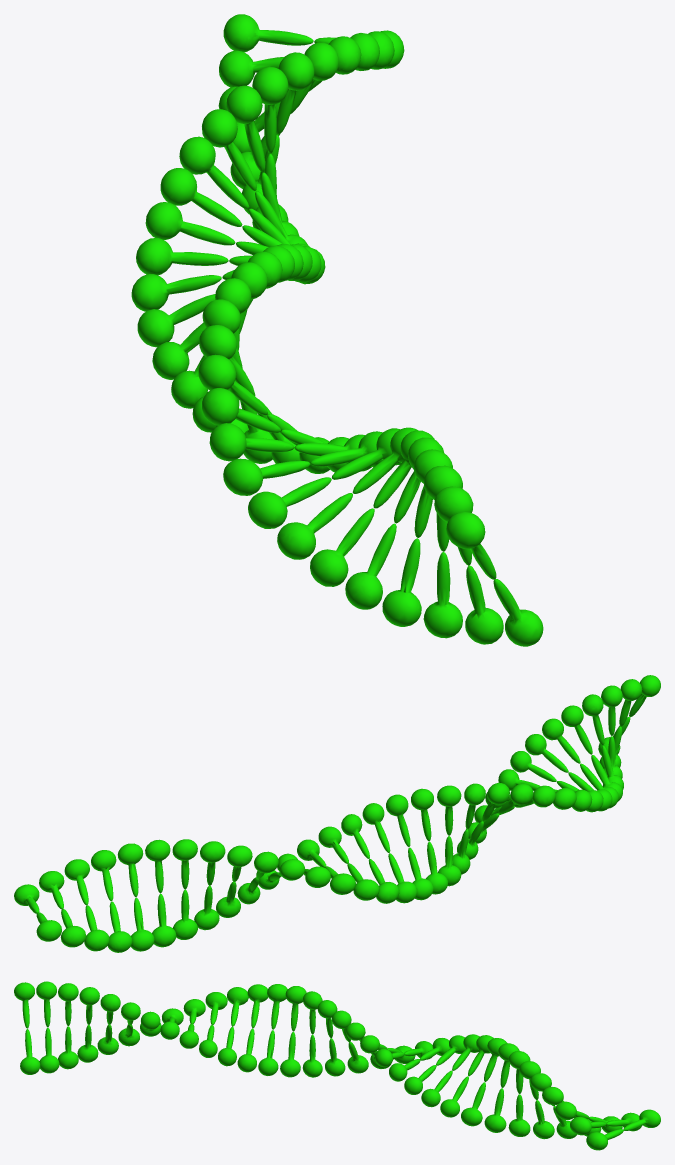
File: dnagreen.glb
3 views of the same model, one above another, from view 1: azimuth 30°, elevation 25°; view 2: azimuth 150°, elevation 25°; view 3: azimuth 270°, elevation 25° (orthographic). The views are drawn at different scales.
Visible parts, largest first — view 1: DNA; view 2: DNA; view 3: DNA.
Part boxes in pixels (left/top/right/bottom): DNA: left=131, top=14, right=543, bottom=646; DNA: left=14, top=675, right=660, bottom=952; DNA: left=14, top=981, right=660, bottom=1150.
Size of the model in its own units: 1925 by 537 by 3732.
